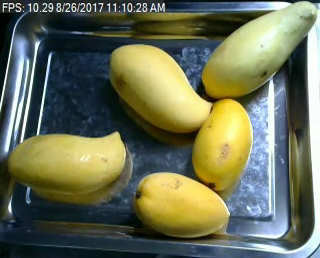Mango: (199, 1, 320, 102), (108, 40, 214, 138), (8, 123, 126, 196), (133, 171, 234, 237), (191, 96, 256, 190)
